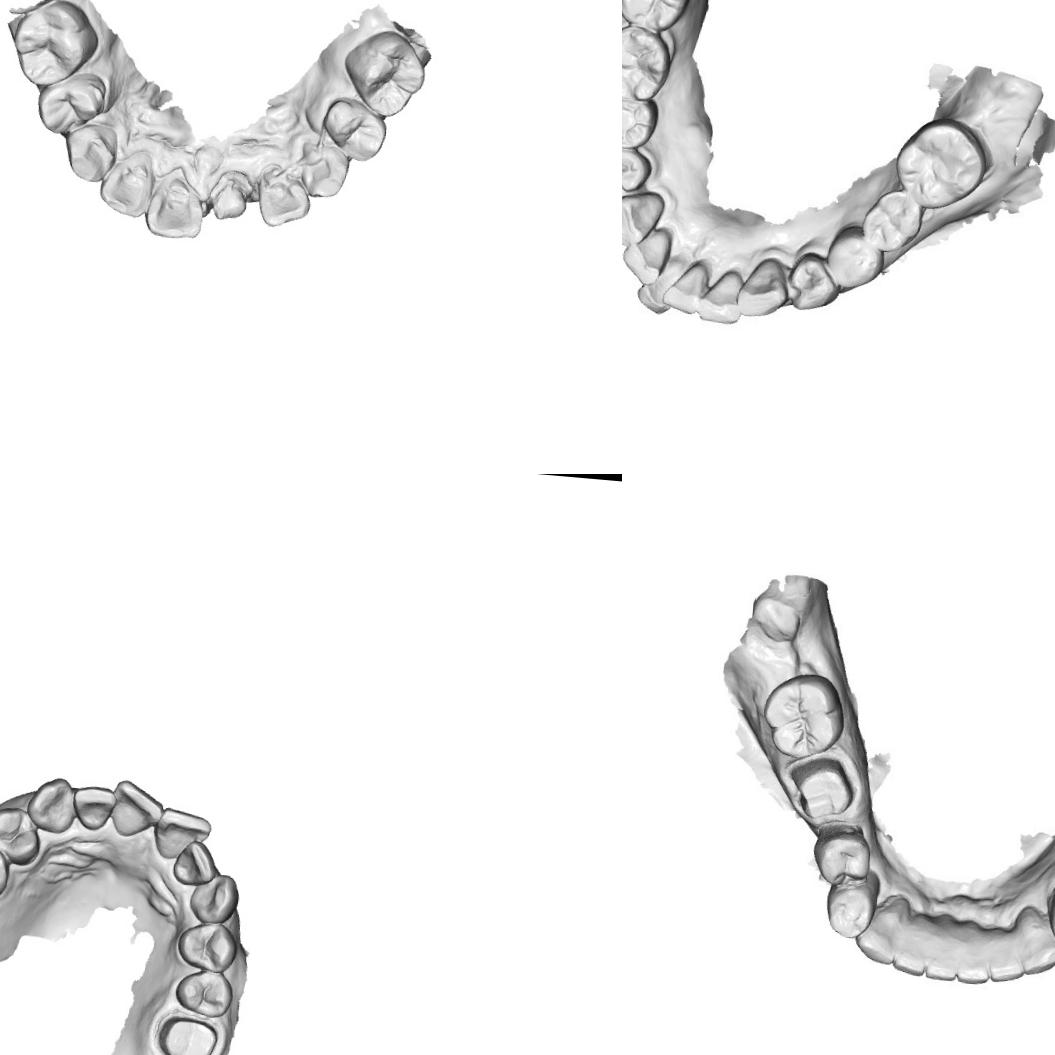canine: (288, 136, 353, 202), (60, 118, 121, 187), (853, 894, 905, 966), (24, 772, 78, 835), (1011, 903, 1055, 979), (185, 869, 241, 926), (736, 253, 790, 312), (622, 189, 667, 248)
crown: (782, 752, 858, 825), (152, 1011, 222, 1055), (208, 176, 254, 224)
incisor: (142, 171, 210, 245), (104, 776, 166, 842), (98, 155, 156, 221), (252, 172, 314, 231), (152, 805, 214, 864), (631, 258, 686, 318), (983, 922, 1028, 986), (170, 836, 220, 888), (68, 782, 117, 834), (890, 918, 932, 978), (924, 919, 963, 983), (701, 272, 745, 326), (954, 928, 994, 987), (670, 260, 710, 317), (624, 228, 670, 274)
molar: (756, 668, 849, 762), (898, 123, 978, 198), (622, 27, 668, 100), (872, 190, 918, 249), (622, 0, 687, 30)
premolar: (336, 24, 432, 122), (5, 0, 104, 93), (32, 67, 114, 140), (318, 94, 390, 166), (810, 820, 870, 890), (820, 873, 878, 941), (173, 918, 240, 974), (171, 963, 236, 1020), (790, 254, 841, 310), (0, 802, 43, 866), (829, 231, 878, 283), (622, 141, 649, 195), (622, 98, 649, 144), (1041, 885, 1055, 950)
